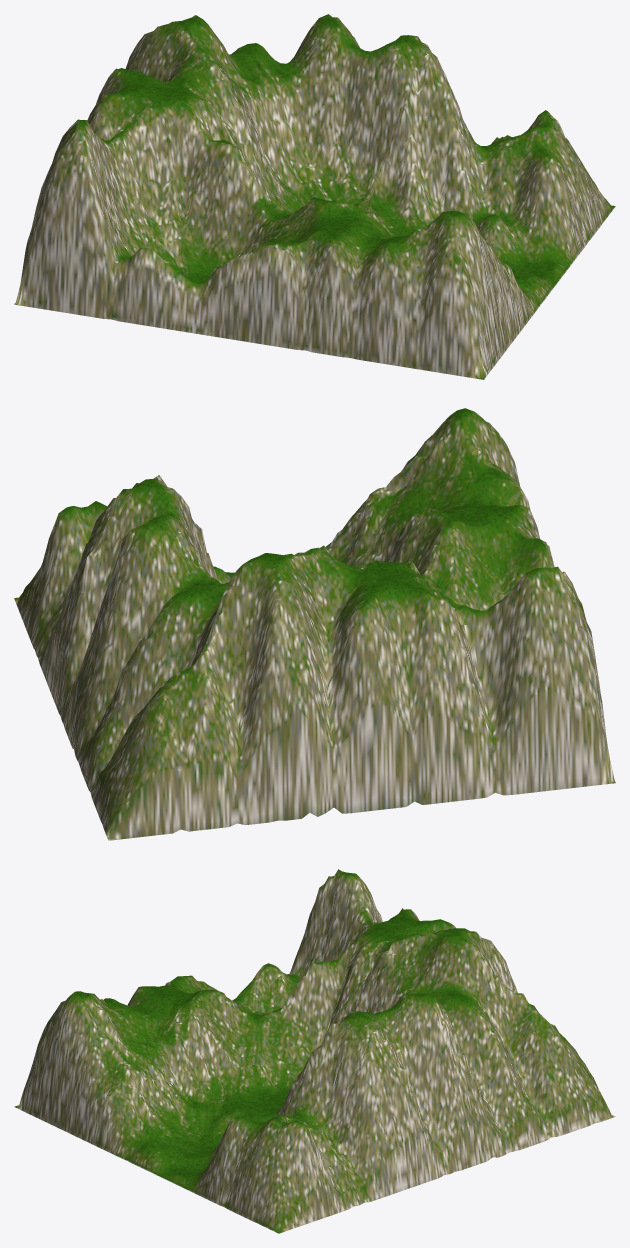
The model's file is Mountain Valley.obj.
The picture shows the model from 3 angles, top to bottom: view 1: azimuth 30°, elevation 25°; view 2: azimuth 150°, elevation 25°; view 3: azimuth 270°, elevation 25°; orthographic projection. The views are drawn at different scales.
Visible parts, largest first — view 1: Mountain_Valley; view 2: Mountain_Valley; view 3: Mountain_Valley.
Boxes of the visible parts, box(x1,y1,x2,y2) form: Mountain_Valley: box(14, 14, 615, 379); Mountain_Valley: box(14, 408, 615, 840); Mountain_Valley: box(14, 869, 615, 1233).
Bounding box in the file's own units: 117 × 37.84 × 125.
